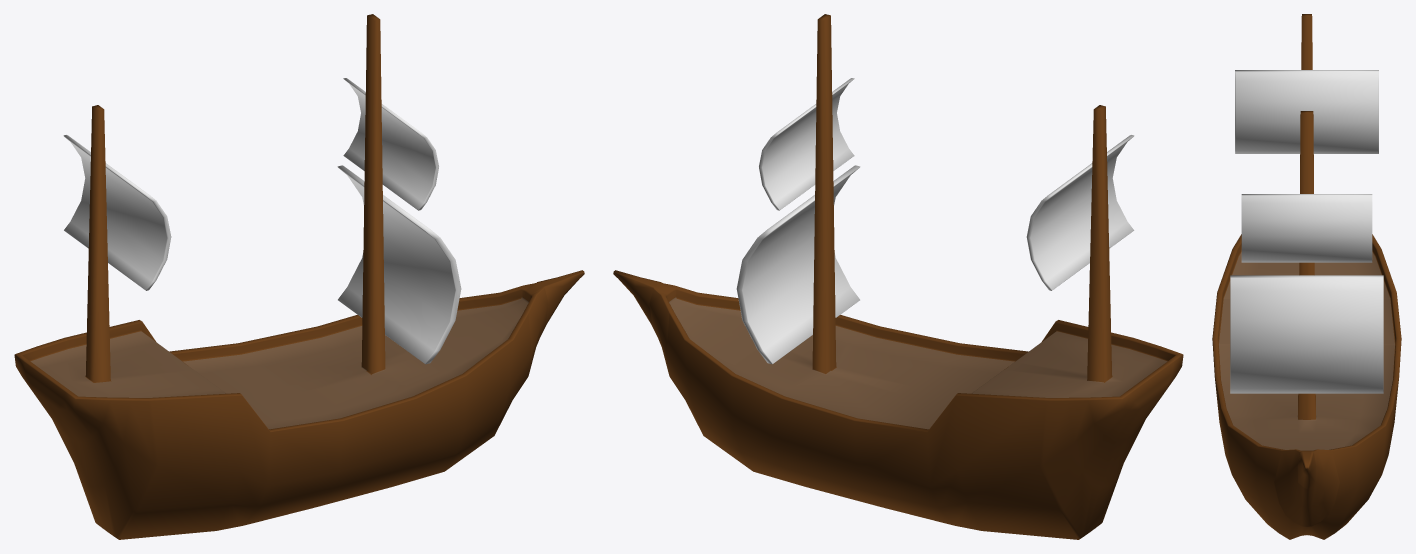
File: ship.fbx
The picture shows the model from 3 angles, left to right: view 1: azimuth 30°, elevation 25°; view 2: azimuth 150°, elevation 25°; view 3: azimuth 270°, elevation 25°; orthographic projection. The views are drawn at different scales.
Parts seen in each view (by area): view 1: ship; view 2: ship; view 3: ship.
Part boxes in pixels (x1,y1,x2,y2): ship: (14,14,584,539); ship: (613,14,1183,539); ship: (1212,14,1401,539).
Bounding box in the file's own units: 4.52 × 12.95 × 10.34.
